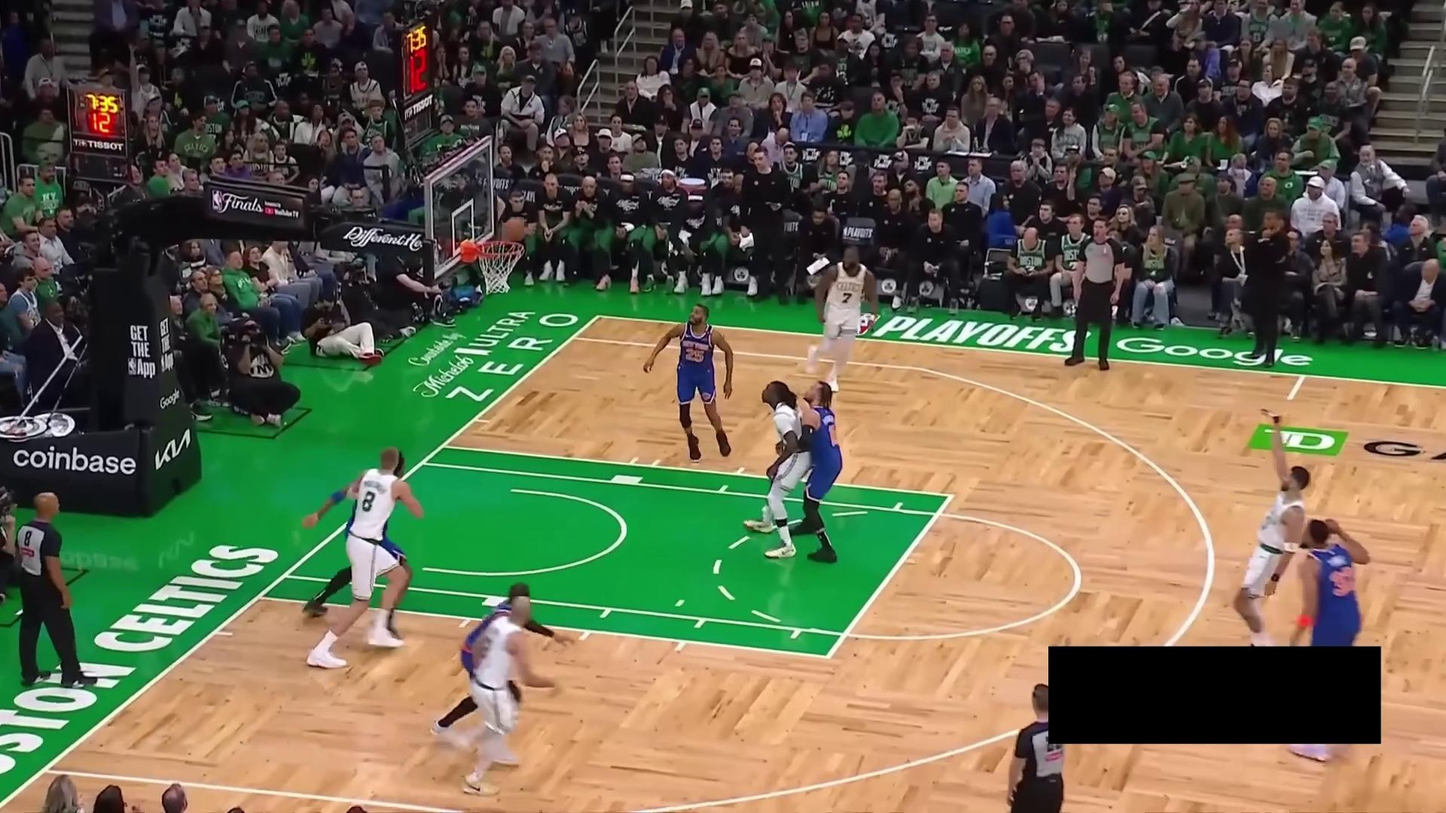ball: (502, 216, 527, 243)
number: (1329, 566, 1357, 597), (684, 346, 705, 363), (361, 490, 376, 513), (828, 422, 838, 448), (840, 291, 853, 305)
player: (429, 581, 575, 766), (306, 447, 425, 670), (301, 450, 414, 642), (1286, 516, 1371, 765), (463, 596, 562, 796), (1230, 412, 1312, 646), (642, 302, 734, 463), (743, 379, 815, 559), (804, 242, 880, 393), (786, 379, 844, 565)
referee: (12, 492, 99, 689), (1063, 216, 1127, 372), (999, 682, 1069, 813)
rim: (475, 239, 526, 258)
